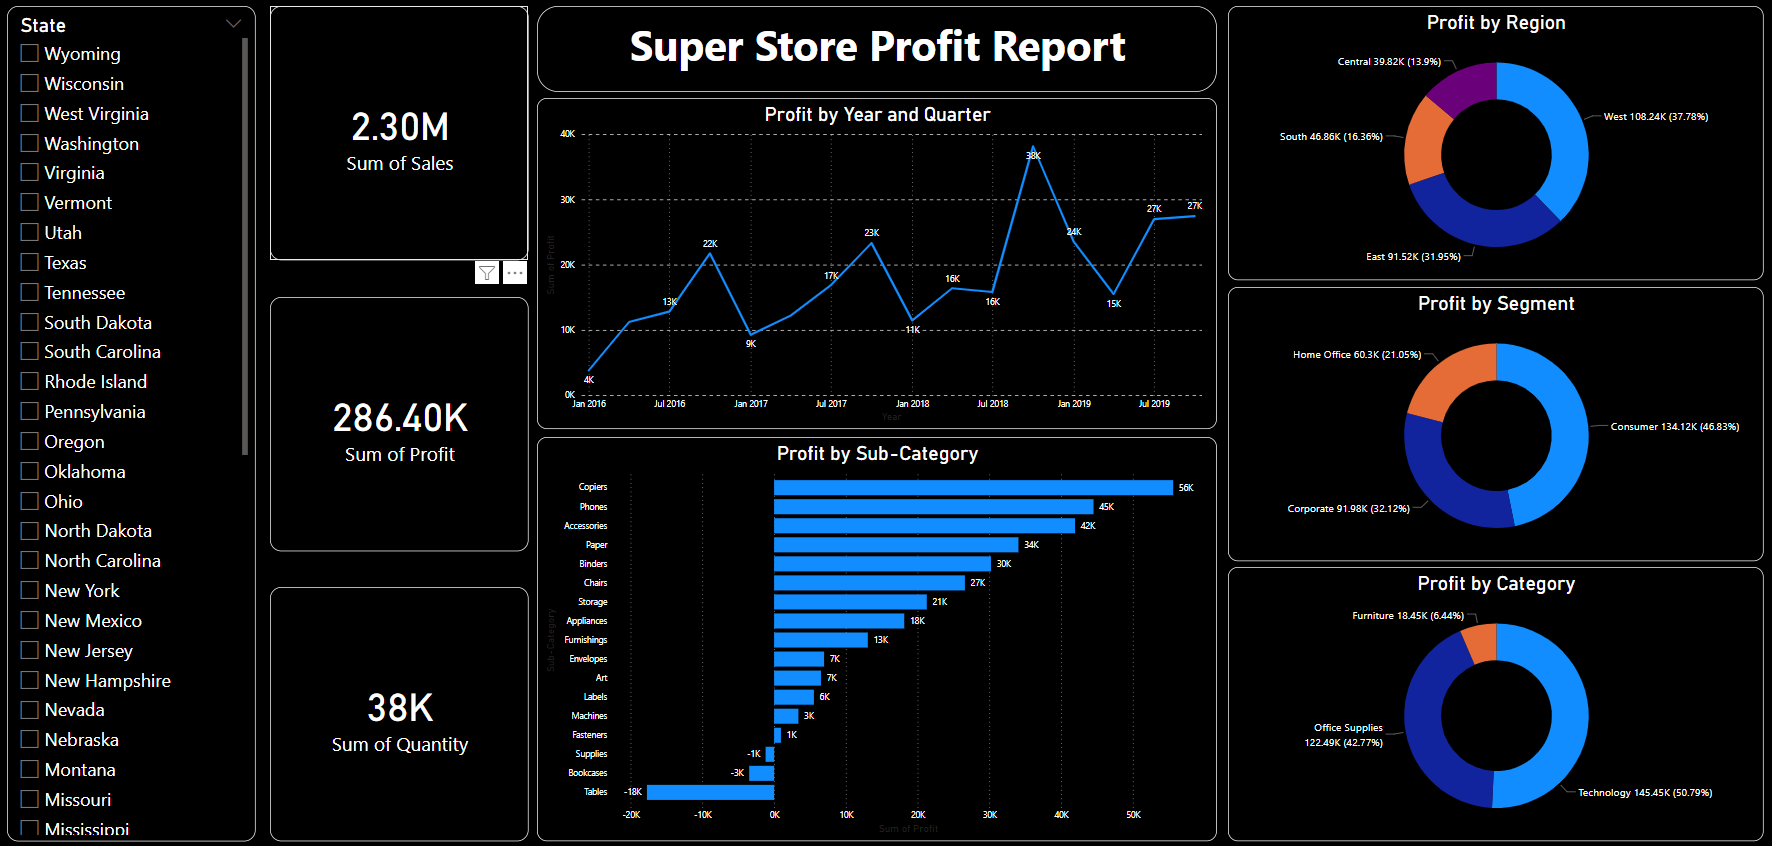

Layout of this report page (visuals, bound fields, positions):
{"tool":"powerbi","page":{"name":"Page 1","canvas":[2500,1200],"ordinal":0},"visuals":[{"type":"textbox","box":[759.8,12.1,956.8,120.6],"z":0},{"type":"donutChart","title":"Profit by Category","fields":{"Category":["Orders.Category"],"Y":["Sum(Orders.Profit)"]},"box":[1732.7,802,753.8,385.9],"z":1000},{"type":"donutChart","title":"Profit by Segment","fields":{"Y":["Sum(Orders.Profit)"],"Category":["Orders.Segment"]},"box":[1732.7,408,753.8,385.9],"z":2000},{"type":"donutChart","title":"Profit by Region","fields":{"Y":["Sum(Orders.Profit)"],"Category":["Orders.Region"]},"box":[1732.7,12.1,753.8,385.9],"z":3000},{"type":"clusteredBarChart","title":"Profit by Sub-Category","fields":{"Category":["Orders.Sub-Category"],"Y":["Sum(Orders.Profit)"]},"box":[759.8,619.1,956.8,568.8],"z":4000},{"type":"lineChart","title":"Profit by Year and Quarter","fields":{"Category":["Orders.Order Date.Variation.Date Hierarchy.Year","Orders.Order Date.Variation.Date Hierarchy.Quarter","Orders.Order Date.Variation.Date Hierarchy.Month","Orders.Order Date.Variation.Date Hierarchy.Day"],"Y":["Sum(Orders.Profit)"]},"box":[759.8,142.7,956.8,466.3],"z":5000},{"type":"slicer","fields":{"Values":["Orders.State"]},"box":[14.1,12.1,349.7,1175.9],"z":6000},{"type":"card","fields":{"Values":["Sum(Orders.Sales)"]},"box":[383.9,12.1,363.8,357.8],"z":7000},{"type":"card","fields":{"Values":["Sum(Orders.Profit)"]},"box":[383.9,422.1,363.8,357.8],"z":8000},{"type":"card","fields":{"Values":["Sum(Orders.Quantity)"]},"box":[383.9,830.2,363.8,357.8],"z":9000}]}

Visuals, with their boxes in screenshot pixels (x1, y1, x2, y2), scaled from the page's 2500x1200 canvas onto the 1772x846 screenshot:
textbox: bbox=(539, 9, 1217, 94)
"Profit by Category" donutChart: bbox=(1228, 565, 1762, 837)
"Profit by Segment" donutChart: bbox=(1228, 288, 1762, 560)
"Profit by Region" donutChart: bbox=(1228, 9, 1762, 281)
"Profit by Sub-Category" clusteredBarChart: bbox=(539, 436, 1217, 837)
"Profit by Year and Quarter" lineChart: bbox=(539, 101, 1217, 429)
slicer - Orders.State: bbox=(10, 9, 258, 838)
card - Sum(Orders.Sales): bbox=(272, 9, 530, 261)
card - Sum(Orders.Profit): bbox=(272, 298, 530, 550)
card - Sum(Orders.Quantity): bbox=(272, 585, 530, 838)
